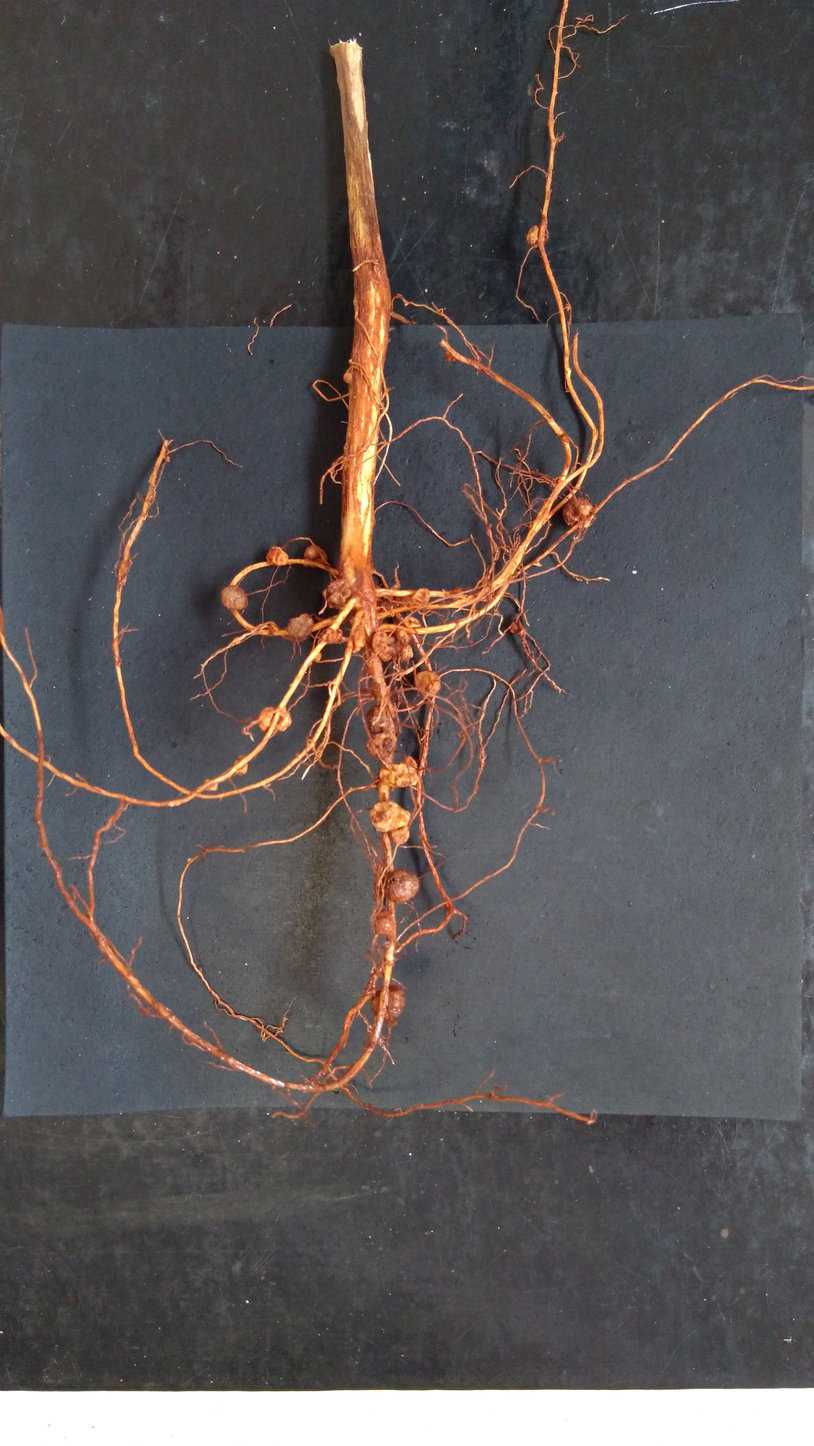nodule: (381, 865, 422, 907), (368, 983, 410, 1023), (560, 496, 599, 535), (367, 798, 413, 831), (377, 762, 422, 793), (254, 705, 294, 735), (284, 610, 316, 644), (322, 578, 353, 612), (411, 669, 443, 701), (218, 584, 252, 614), (365, 730, 397, 760), (369, 906, 397, 939), (370, 630, 397, 663), (365, 704, 395, 733), (524, 222, 552, 253), (263, 544, 292, 570), (301, 543, 330, 567), (350, 625, 368, 656), (389, 825, 414, 845), (409, 587, 433, 607), (401, 752, 418, 770), (397, 644, 414, 660), (325, 630, 342, 645), (397, 628, 412, 644), (404, 615, 421, 628), (342, 371, 354, 386), (311, 652, 323, 664)
